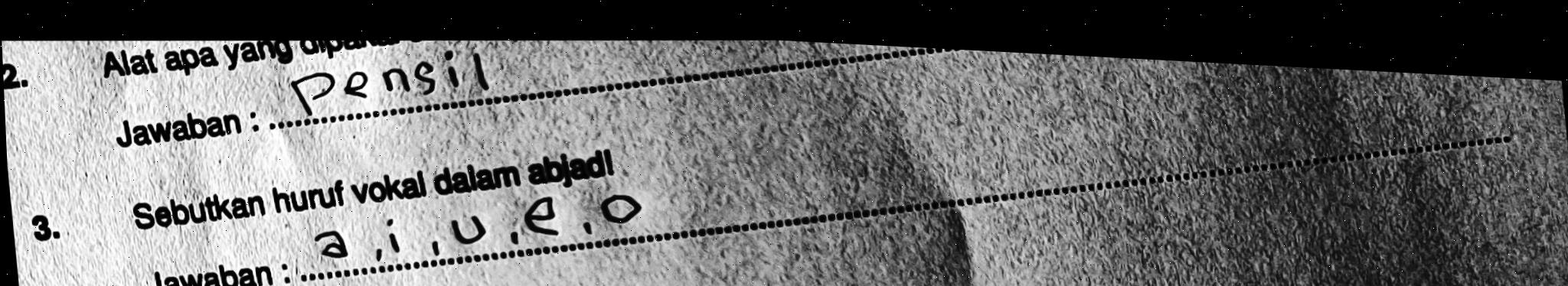jawaban: (311, 176, 653, 274), (283, 42, 499, 125)
